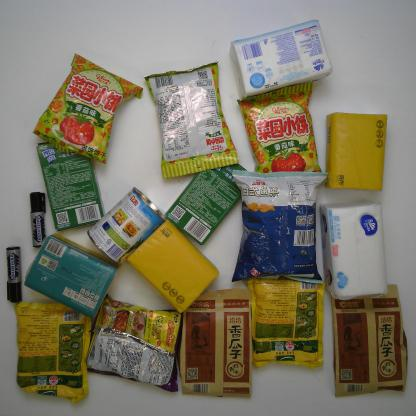Canned Food: (85, 186, 170, 266)
Dessert: (164, 149, 254, 247), (35, 134, 107, 233)
Dried Food: (173, 285, 254, 399), (330, 282, 408, 399)
Instant Noodles: (84, 288, 184, 393)
Puffed Food: (31, 50, 144, 162), (229, 164, 331, 287), (140, 60, 242, 182), (234, 78, 328, 196)
Seasoner: (13, 300, 92, 404), (245, 273, 326, 369)
Stationery: (28, 190, 47, 250), (6, 244, 23, 306)
Tissue: (124, 217, 220, 313), (231, 16, 334, 102), (23, 233, 120, 318), (317, 200, 388, 300), (324, 110, 389, 194)
